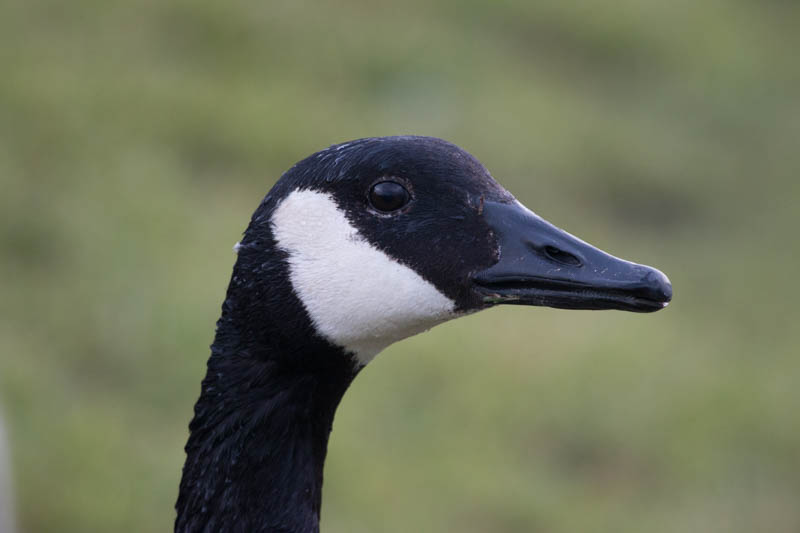goose-head: (229, 137, 671, 368)
